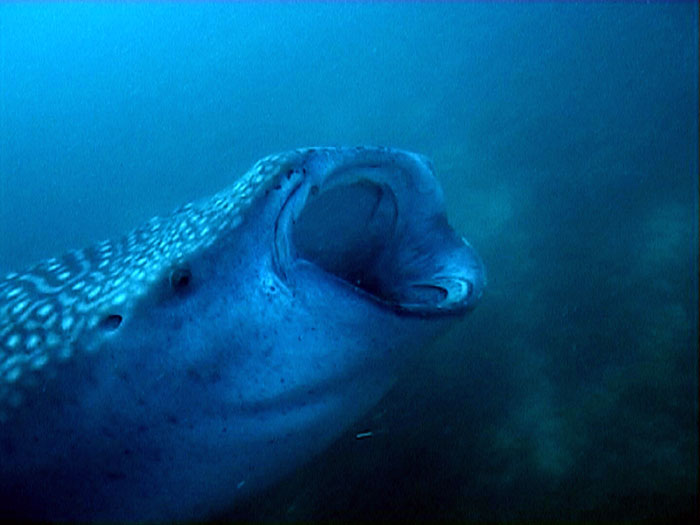Rhincodon_typusw: (1, 119, 492, 524)
